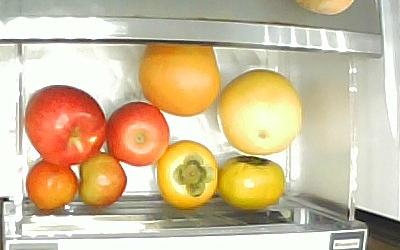apple: (25, 85, 107, 166), (107, 102, 170, 167)
grapefruit: (219, 69, 301, 156), (139, 45, 221, 118)
persimmon: (158, 140, 218, 209), (218, 155, 285, 210)
prune: (26, 160, 78, 212), (78, 153, 126, 209)
